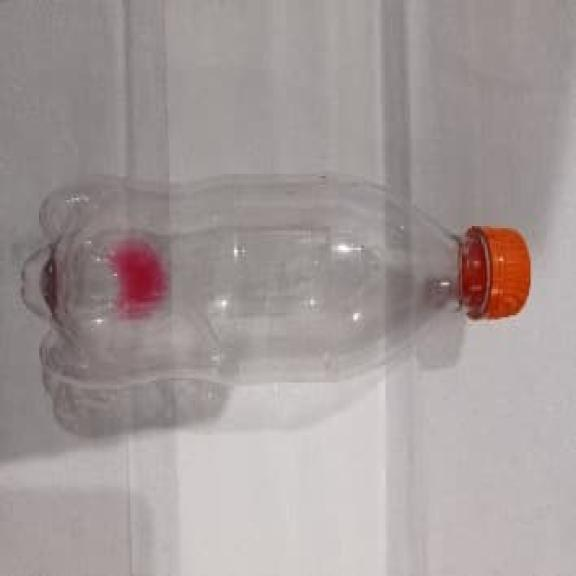Plastik: (24, 176, 530, 436)
